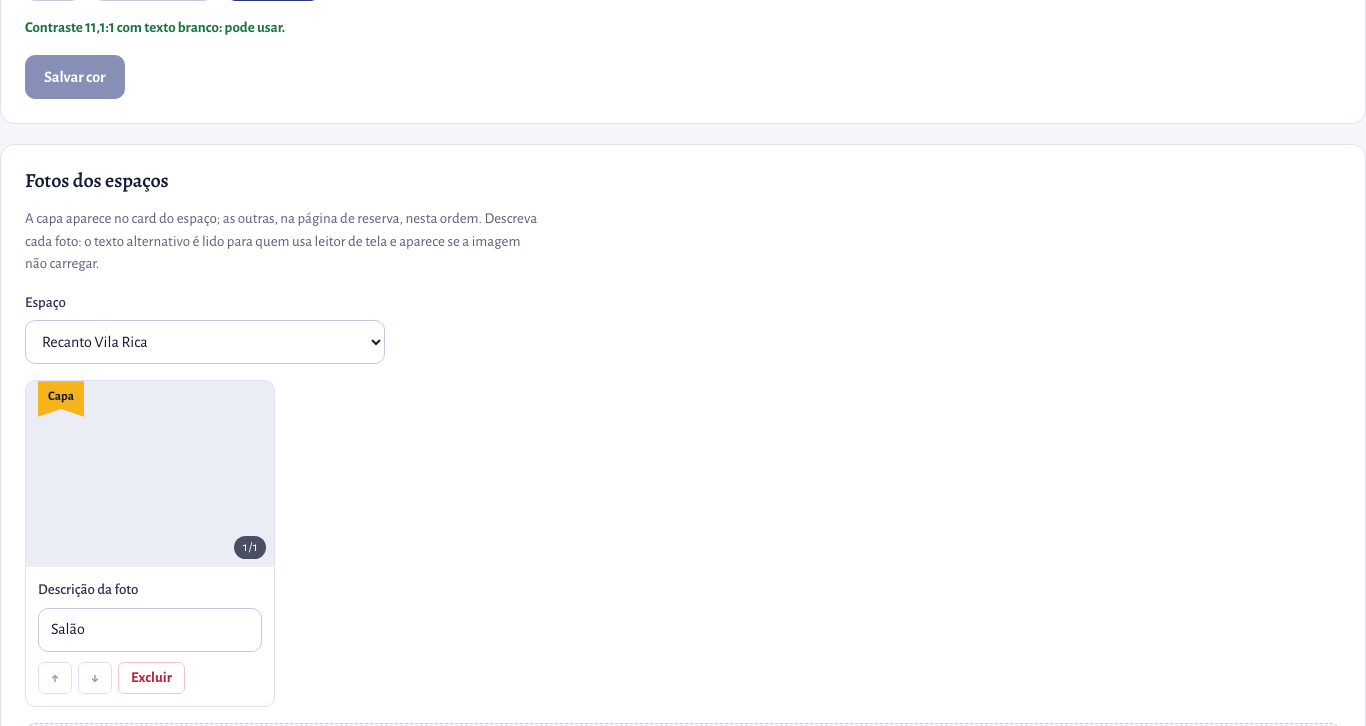
Scenario: Painel → Marca e fotos › troca de espaço carrega as fotos dele
(page scrolled)
Select "Quiosque" in the dropdown labelled "Espaço" at coordinates (205, 342), box [25, 320, 385, 364]
(page scrolled)
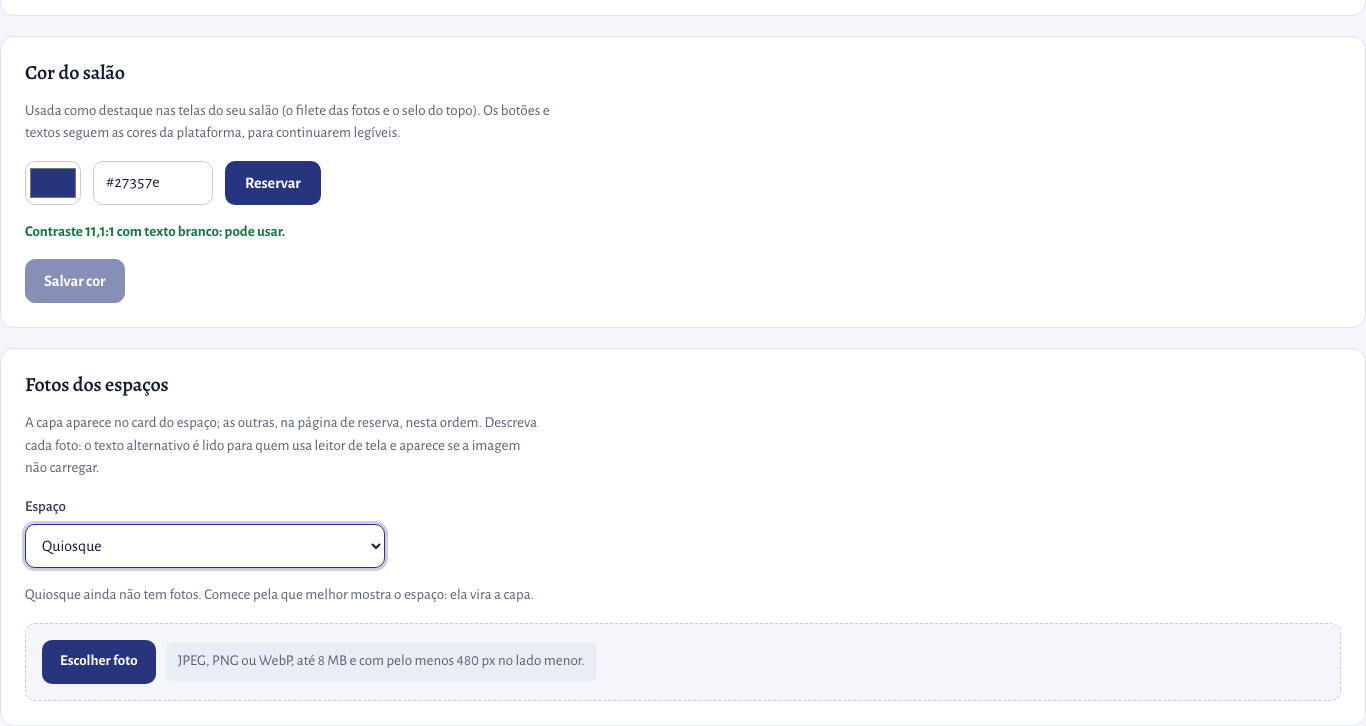
Expected: the text "Quiosque ainda não tem fotos" is shown, [25, 584, 564, 607]
